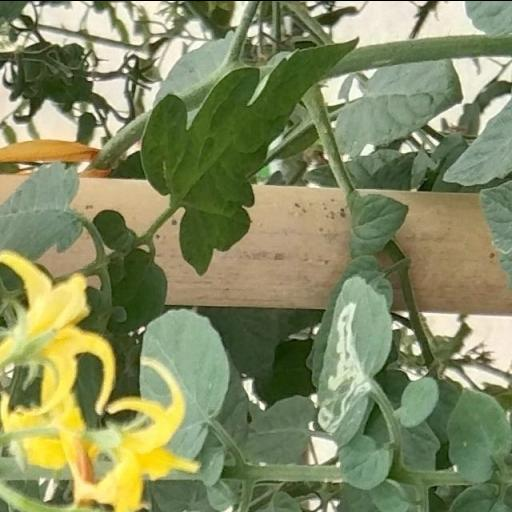disease_tomato: (316, 272, 397, 446)
